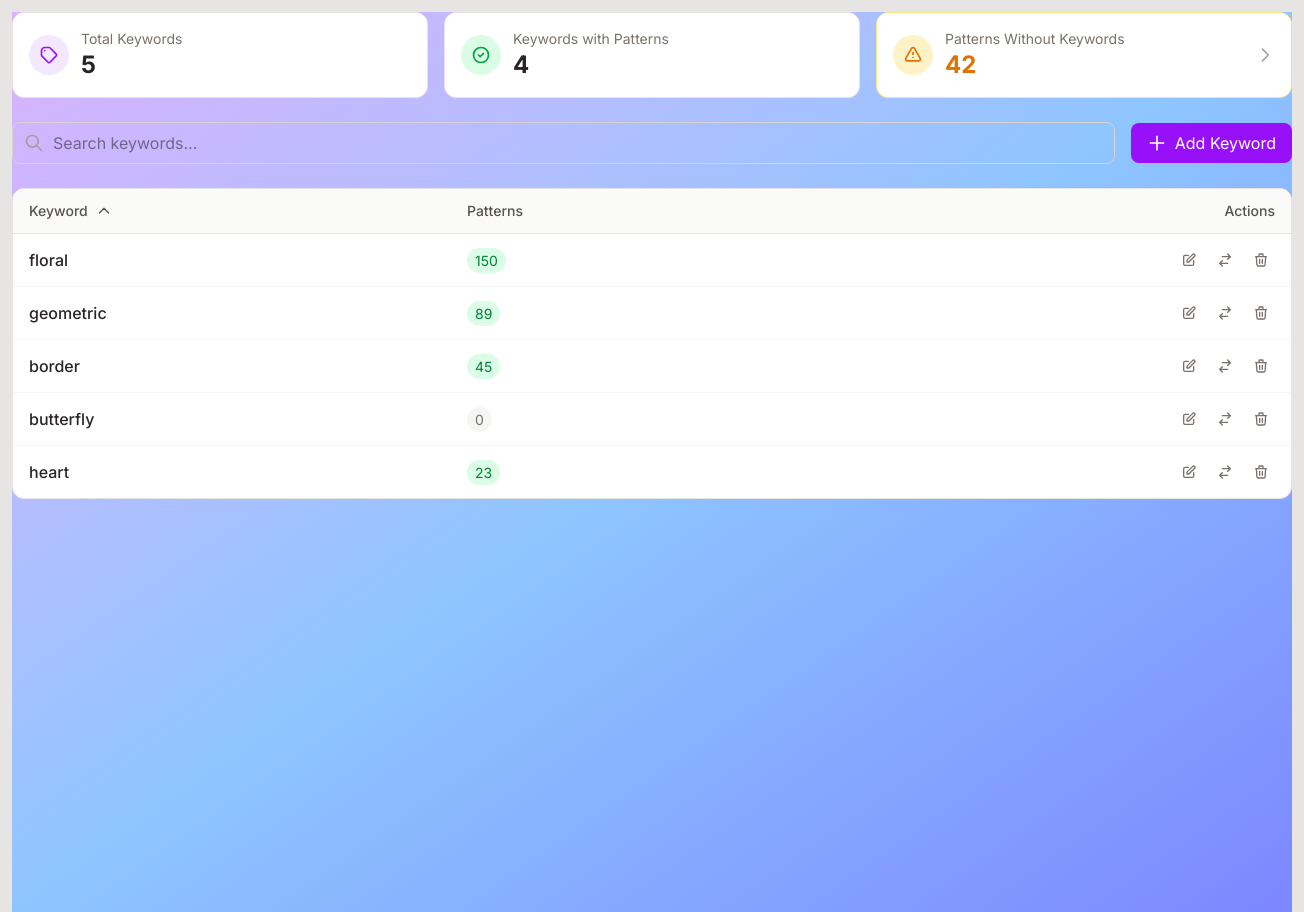
Test: KeywordManager › search functionality › filters keywords by search term
Expected: the text "floral" is shown, [29, 250, 68, 270]
Type "geo" into the field with placeholder "Search keywords...". click: (563, 143)
box: [12, 122, 1115, 164]
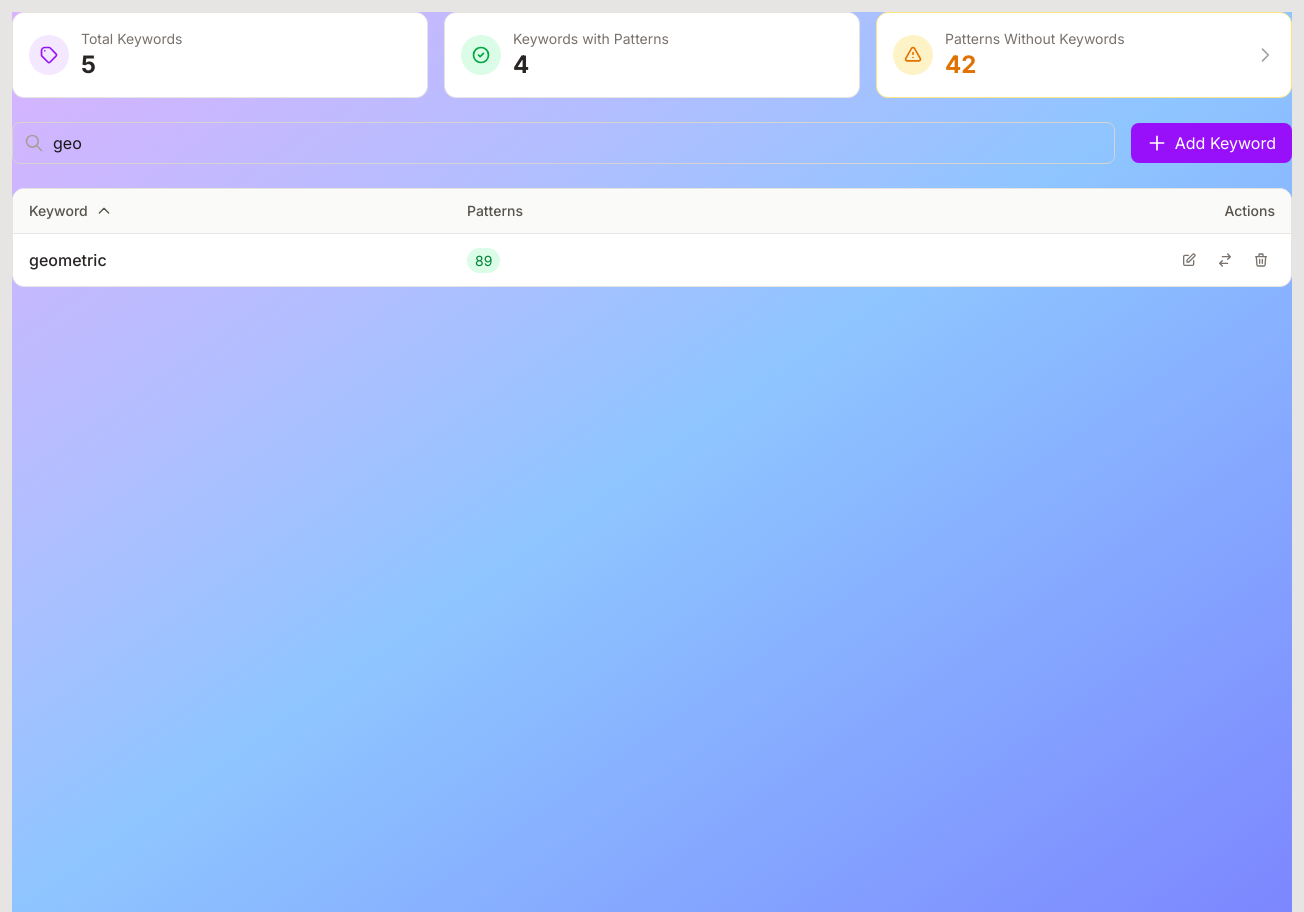
Expected: the text "geometric" is shown, [29, 250, 107, 270]
Expected: the text "floral" is gone
Expected: the text "border" is gone
